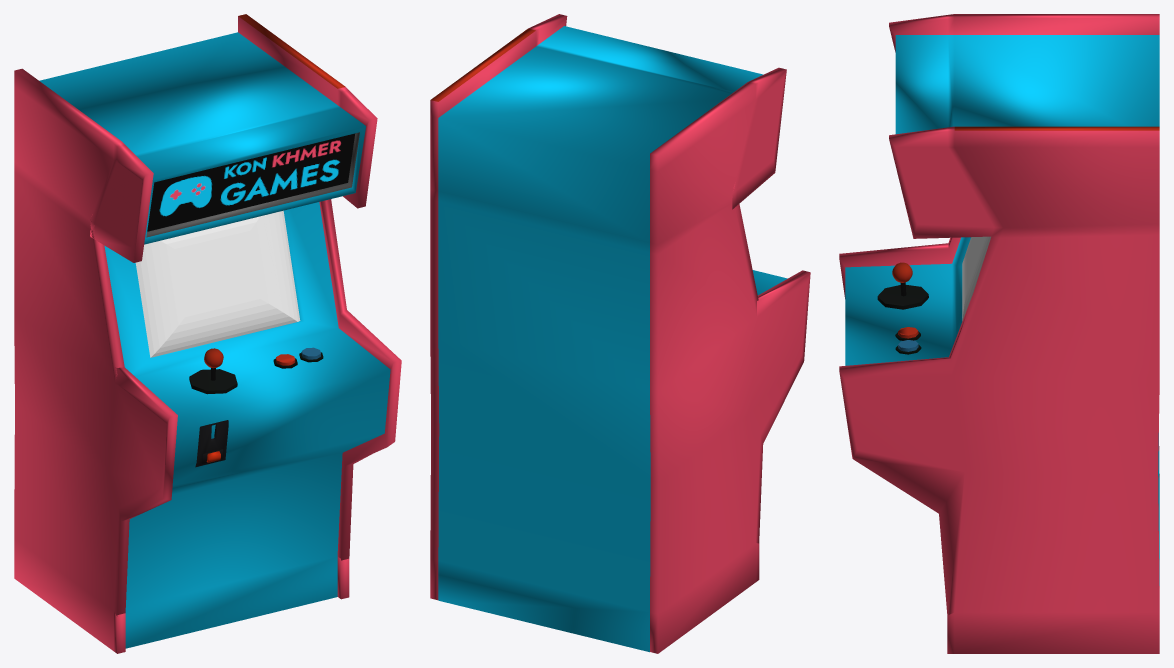
Rendered from arcade_machine.glb.
3 views of the same model, side by side, from view 1: azimuth 30°, elevation 25°; view 2: azimuth 150°, elevation 25°; view 3: azimuth 270°, elevation 25° (orthographic). The views are drawn at different scales.
Parts seen in each view (by area): view 1: ArcadeMachine, ScreenCover, Banner; view 2: ArcadeMachine; view 3: ArcadeMachine, ScreenCover.
Part boxes in pixels (box(x1,y1,x2,y2)): ArcadeMachine: box(14, 14, 401, 653); ScreenCover: box(135, 210, 300, 357); Banner: box(147, 133, 355, 231); ArcadeMachine: box(430, 14, 810, 653); ArcadeMachine: box(839, 14, 1159, 653); ScreenCover: box(962, 236, 990, 320).
Bounding box in the file's own units: 2.15 × 4.51 × 2.5.
Materials: 5 (3 with a texture image).
